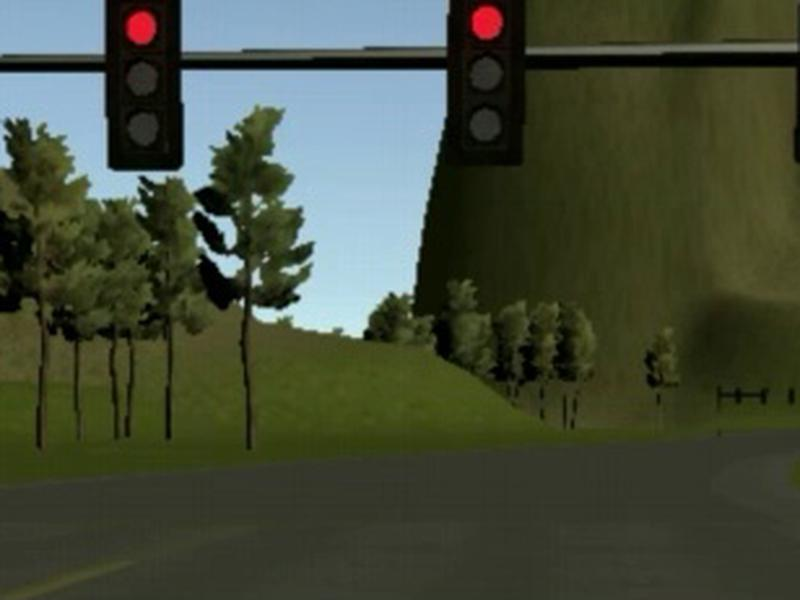Red: (105, 1, 183, 171), (446, 1, 525, 168)
